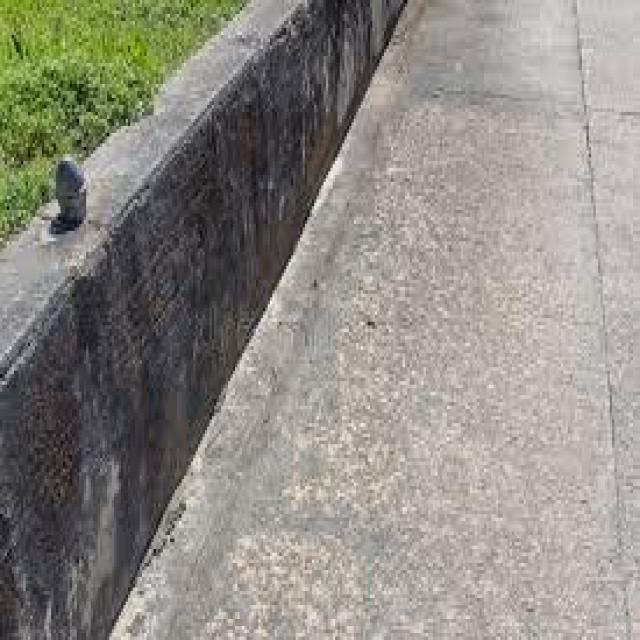curb: (2, 174, 167, 640), (154, 53, 255, 451), (251, 1, 362, 275)
